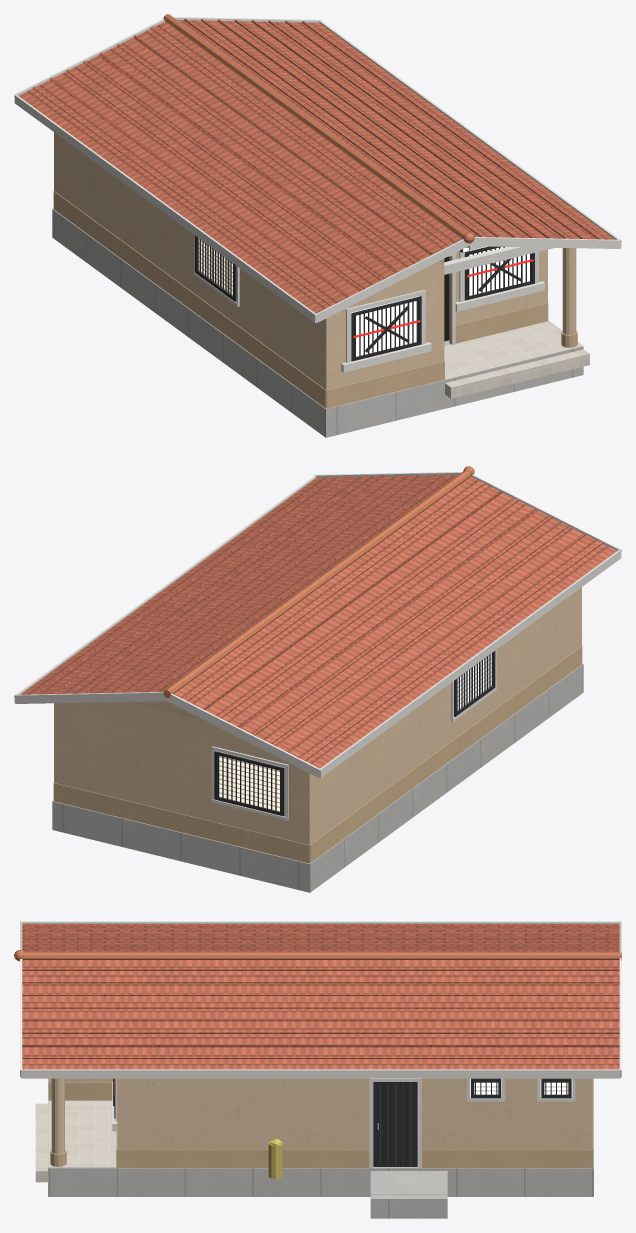
The model's file is casa_creador.glb.
3 renders of one model, top to bottom at view 1: azimuth 30°, elevation 25°; view 2: azimuth 150°, elevation 25°; view 3: azimuth 270°, elevation 25°, orthographic.
Visible parts, largest first — view 1: FG_CasaCreador; view 2: FG_CasaCreador; view 3: FG_CasaCreador.
Boxes of the visible parts, x1=… form: FG_CasaCreador: x1=14, y1=14, x2=621, y2=437; FG_CasaCreador: x1=14, y1=466, x2=621, y2=892; FG_CasaCreador: x1=14, y1=921, x2=621, y2=1218.
Size of the model in its own units: 8.65 by 4.48 by 13.43.
Materials: 16 (6 with a texture image).
